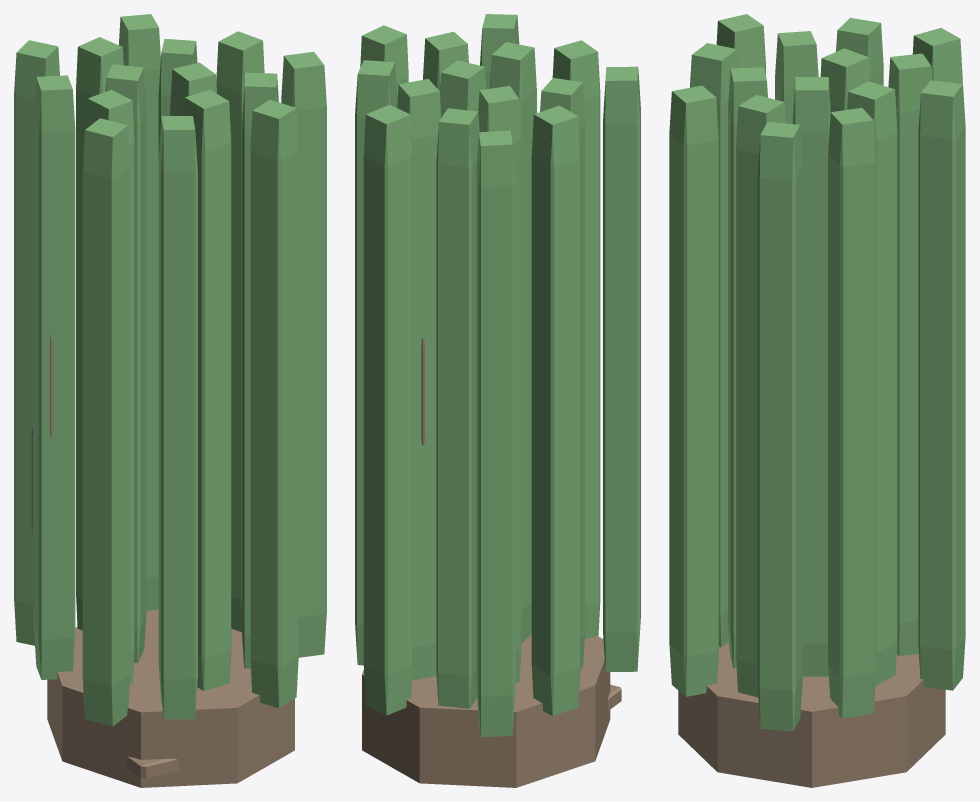
Rendered from b08_switchgrass.glb.
The picture shows the model from 3 angles, left to right: view 1: azimuth 30°, elevation 25°; view 2: azimuth 150°, elevation 25°; view 3: azimuth 270°, elevation 25°; orthographic projection.
Visible parts, largest first — view 1: b08_switchgrass; view 2: b08_switchgrass; view 3: b08_switchgrass.
Boxes of the visible parts, x1,y1,x2,y2 form: b08_switchgrass: (14, 14, 326, 787); b08_switchgrass: (355, 14, 640, 787); b08_switchgrass: (669, 14, 965, 787).
Bounding box in the file's own units: 0.724 × 1.78 × 0.72.
